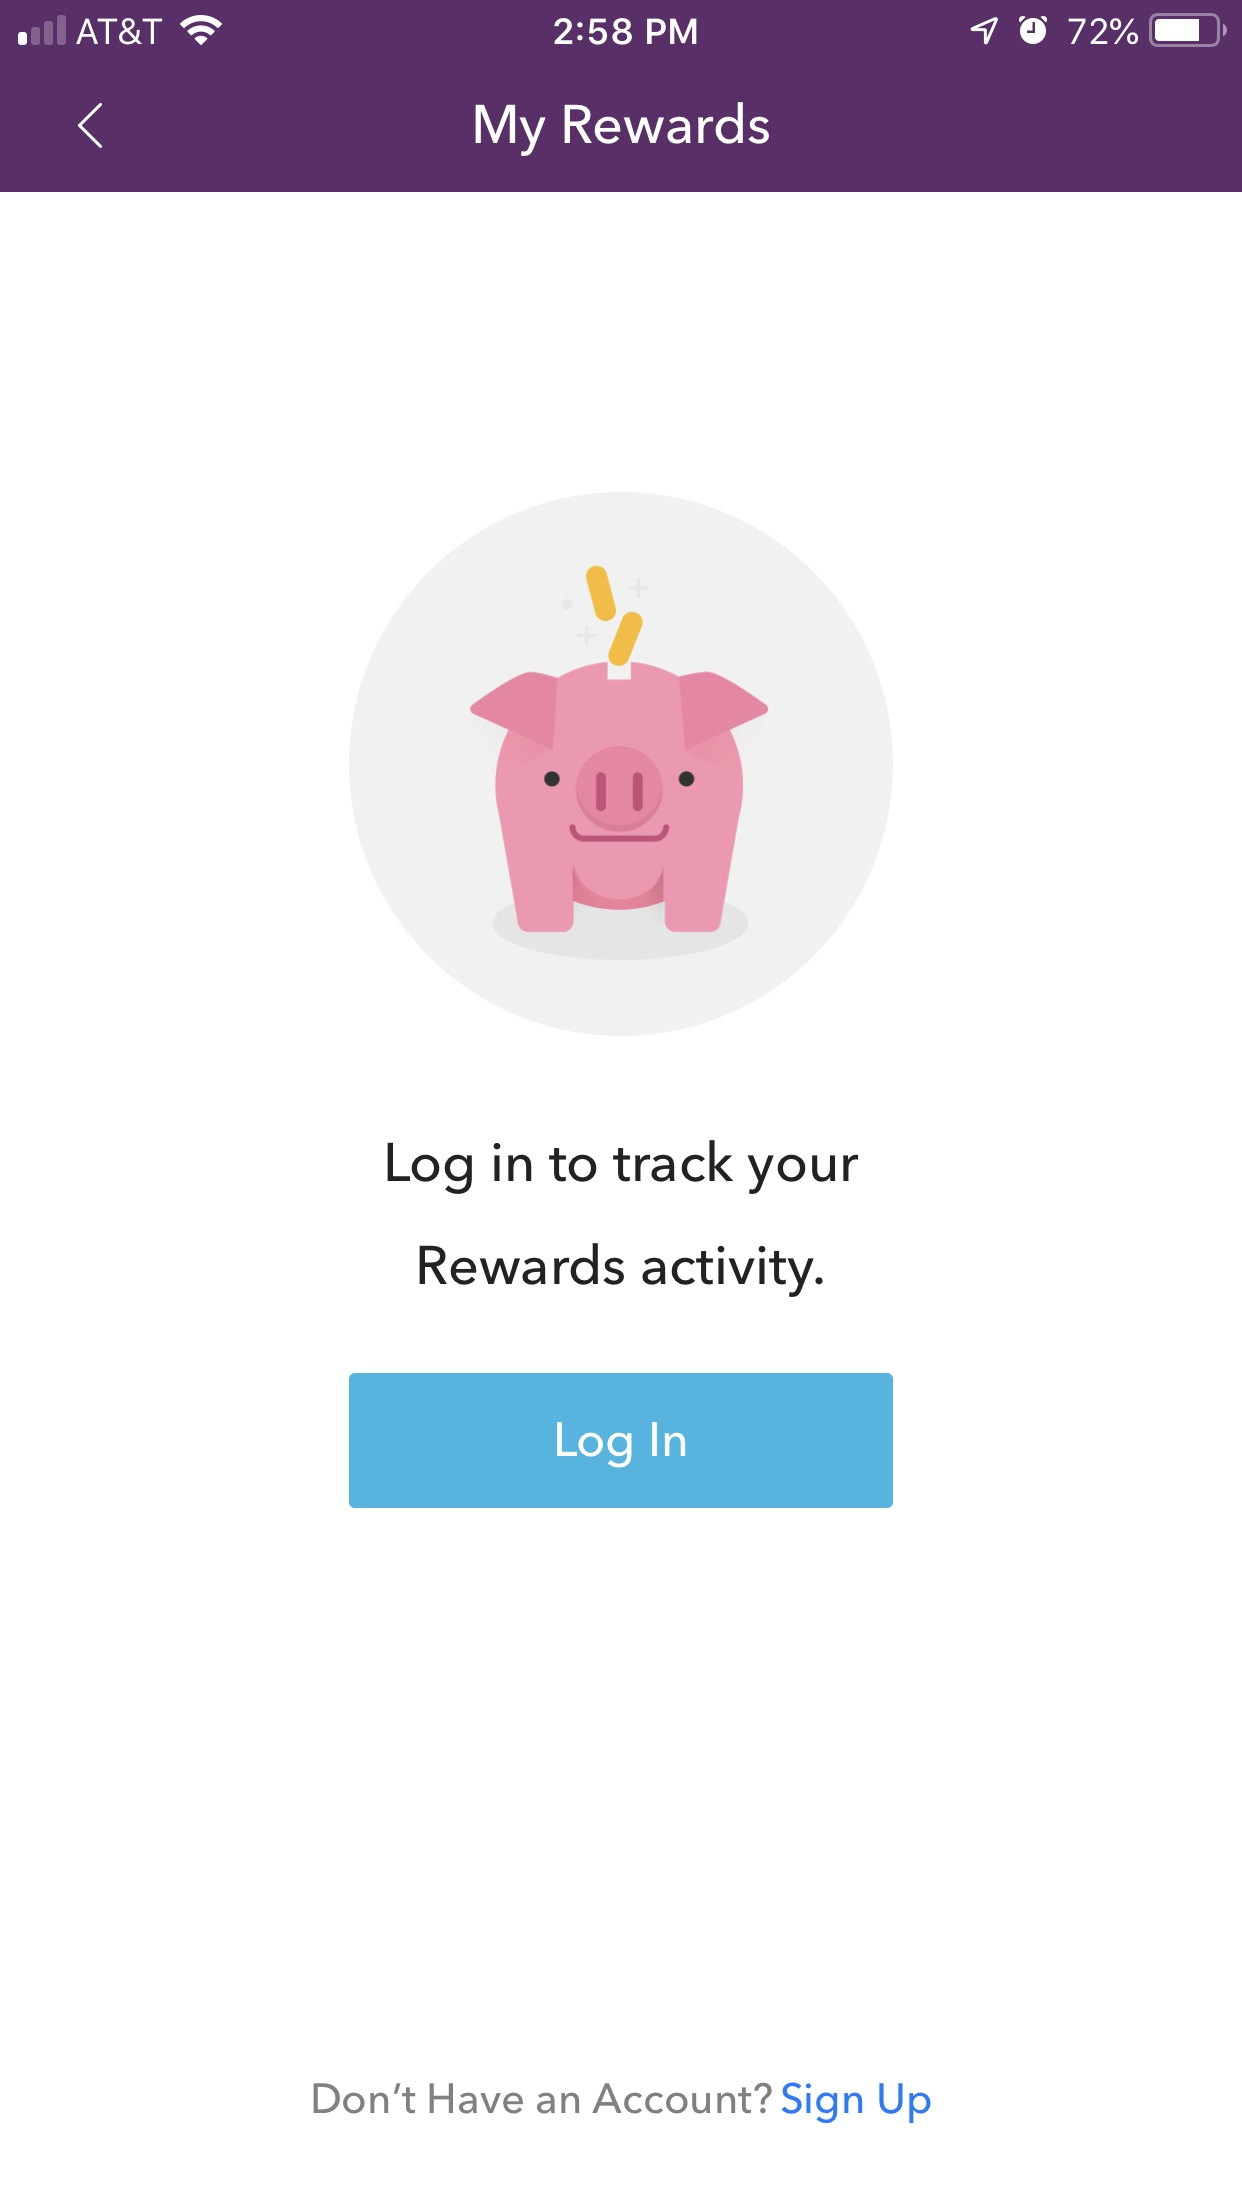Icon: (77, 103, 105, 150)
Image: (349, 491, 895, 1037)
Text: (387, 1139, 858, 1298), (312, 2081, 933, 2125), (475, 102, 770, 158)
TextButton: (349, 1372, 895, 1509)
UpperTaskBar: (2, 2, 1242, 49)
